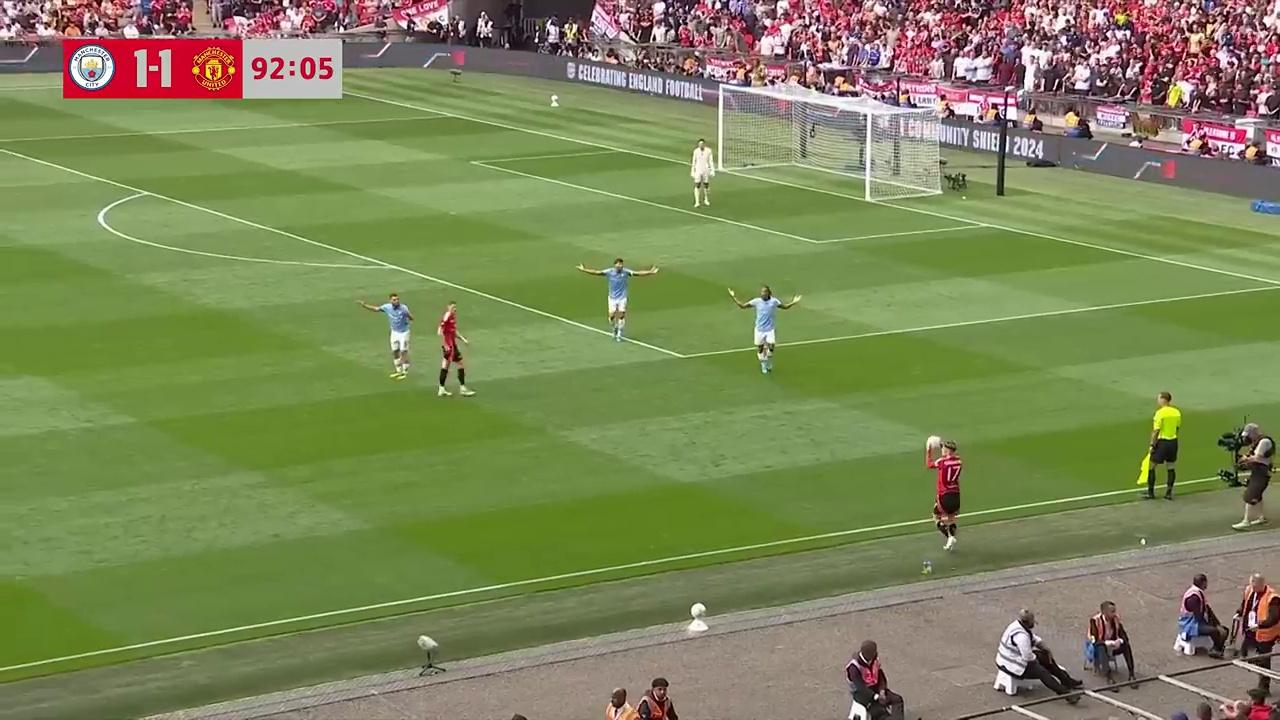ball: (924, 437, 941, 451)
player: (358, 291, 414, 379), (734, 284, 788, 373), (926, 435, 962, 551), (436, 303, 474, 398), (601, 256, 635, 341), (691, 142, 712, 208)
referee: (1144, 391, 1181, 501)
